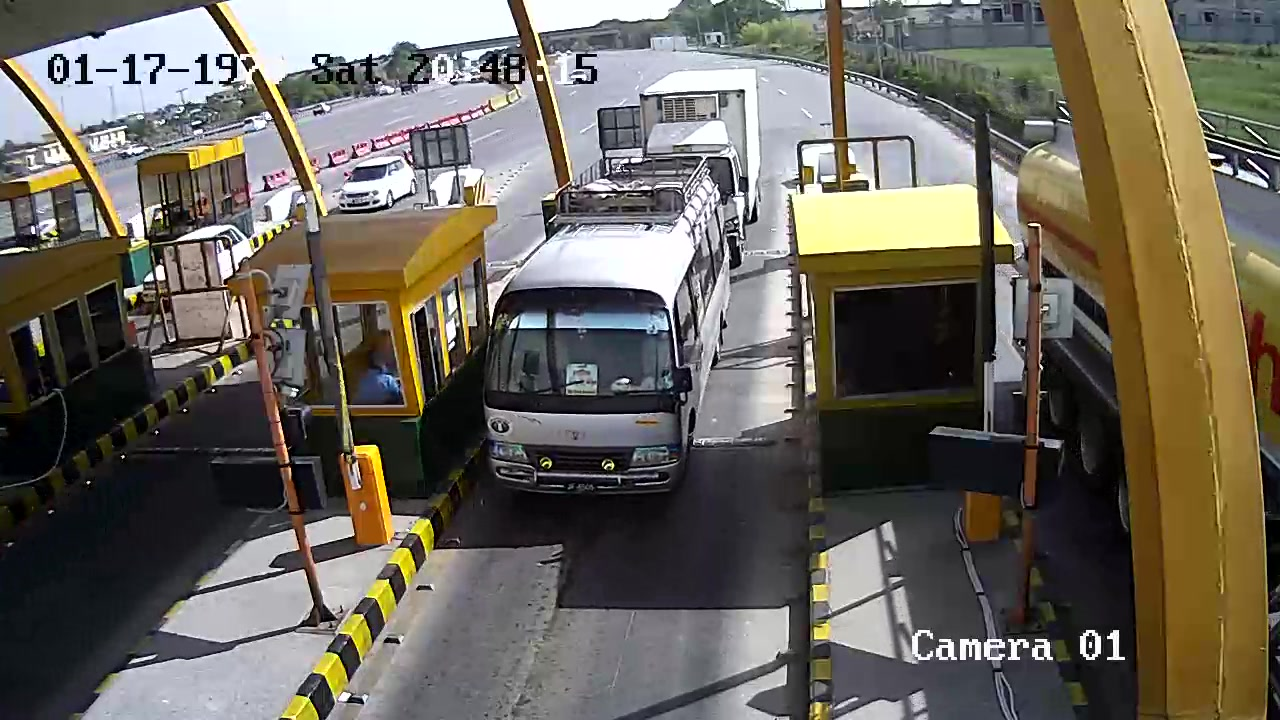F3: (479, 154, 730, 510)
